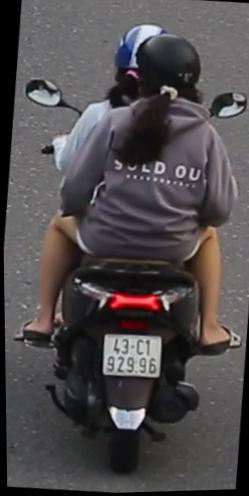LP: (97, 329, 165, 386)
helmet: (131, 27, 207, 112), (112, 17, 166, 83)
